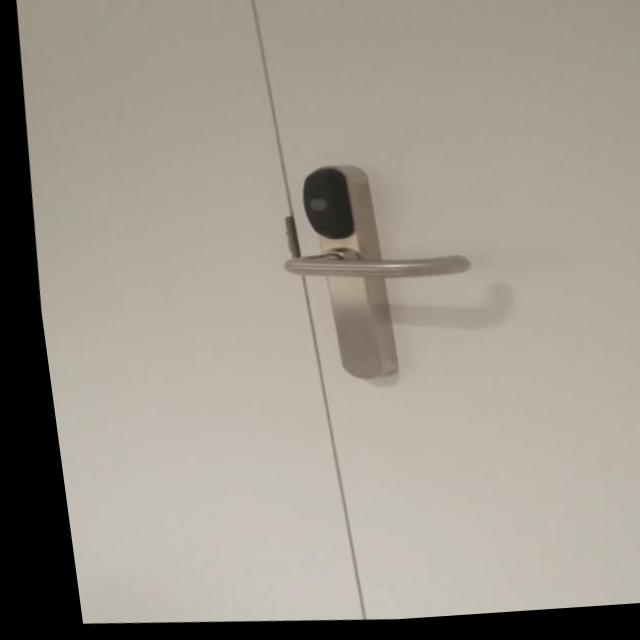door_handle: (260, 241, 471, 299)
